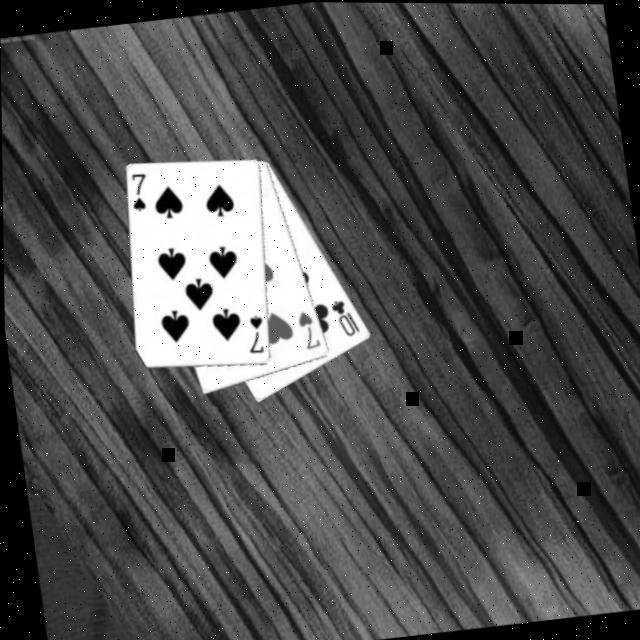10C: (327, 294, 363, 341)
7H: (294, 306, 324, 353)
7S: (242, 311, 270, 357), (125, 170, 153, 216)
